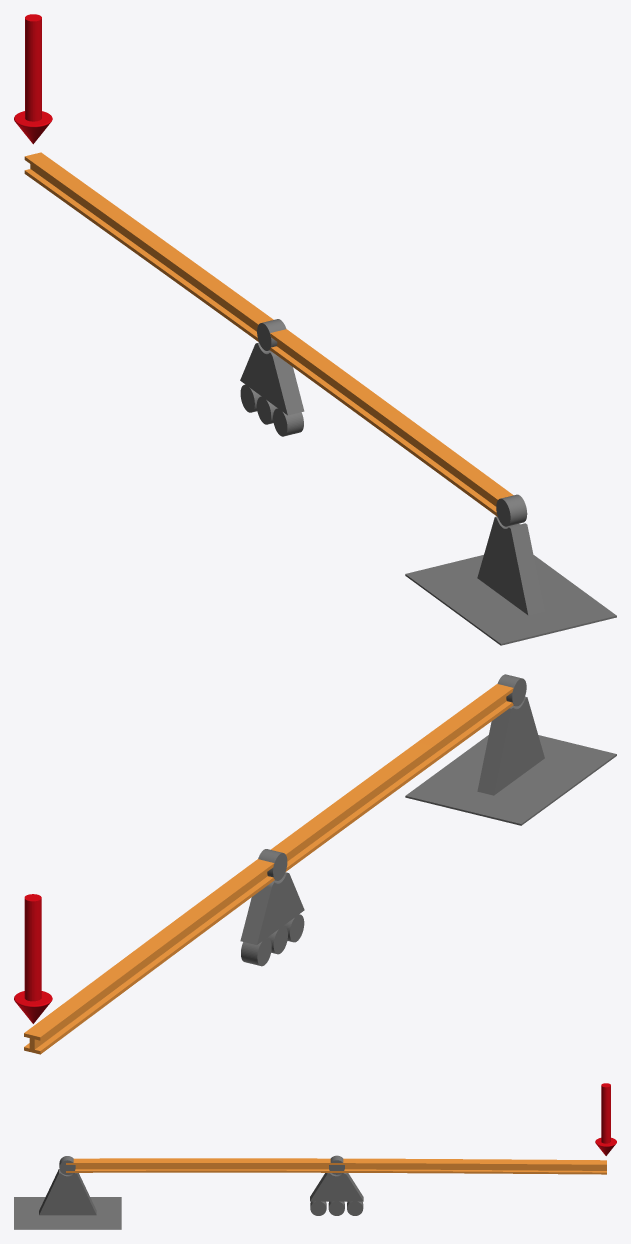
File: beam.glb
3 renders of one model, top to bottom at view 1: azimuth 30°, elevation 25°; view 2: azimuth 150°, elevation 25°; view 3: azimuth 270°, elevation 25°, orthographic. The views are drawn at different scales.
Visible parts, largest first — view 1: Cube.001, constraint_hinge.001, constraint_roller.001, arrow_body.001; view 2: Cube.001, constraint_hinge.001, constraint_roller.001, arrow_body.001, arrow_point.001, constraint_common.002, constraint_common_001; view 3: Cube.001, constraint_hinge.001, constraint_roller.001, arrow_body.001, constraint_common_001.
Boxes of the visible parts, <box> form: Cube.001: <box>24,152,513,516</box>; constraint_hinge.001: <box>405,516,616,645</box>; constraint_roller.001: <box>240,342,304,436</box>; arrow_body.001: <box>25,14,41,121</box>; Cube.001: <box>24,684,513,1054</box>; constraint_hinge.001: <box>405,696,616,825</box>; constraint_roller.001: <box>240,872,304,966</box>; arrow_body.001: <box>24,894,41,1001</box>; arrow_point.001: <box>14,991,52,1023</box>; constraint_common.002: <box>258,849,287,880</box>; constraint_common_001: <box>497,674,526,706</box>; Cube.001: <box>66,1158,606,1174</box>; constraint_hinge.001: <box>14,1169,121,1229</box>; constraint_roller.001: <box>310,1173,363,1215</box>; arrow_body.001: <box>601,1083,610,1143</box>; constraint_common_001: <box>59,1156,75,1174</box>.
Bounding box in the file's own units: 1.4 × 2.64 × 11.19.
